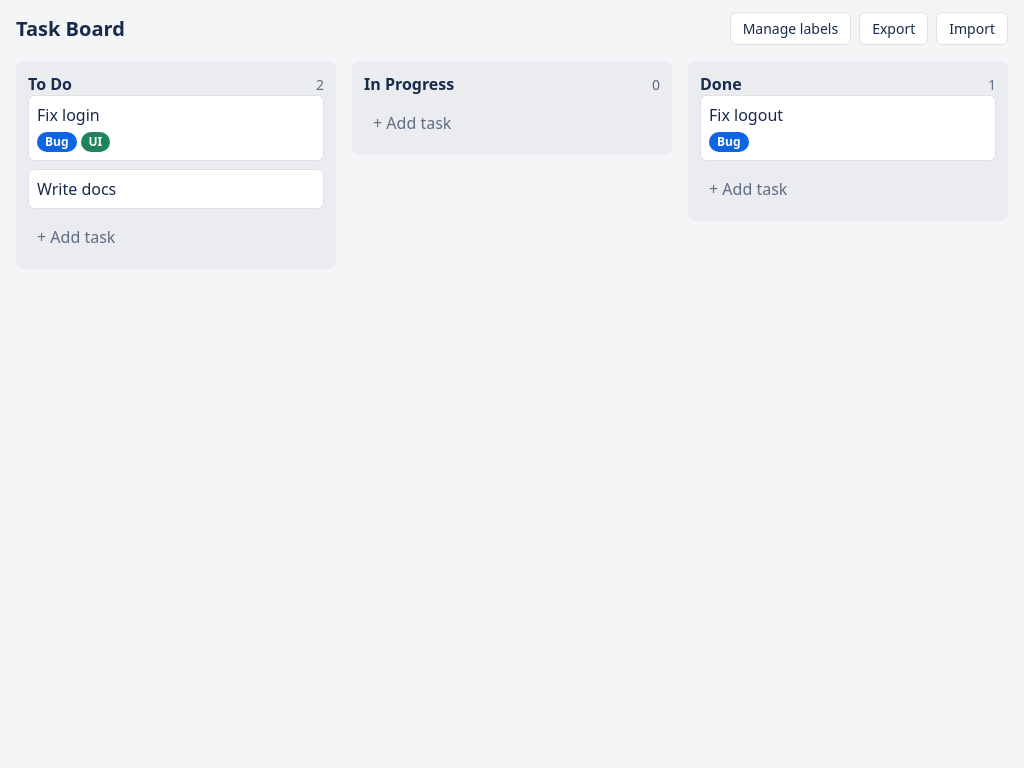
Manage labels screen › rejects a blank name with a message
Click the button "Manage labels".
click(790, 28)  # box [730,12,851,45]
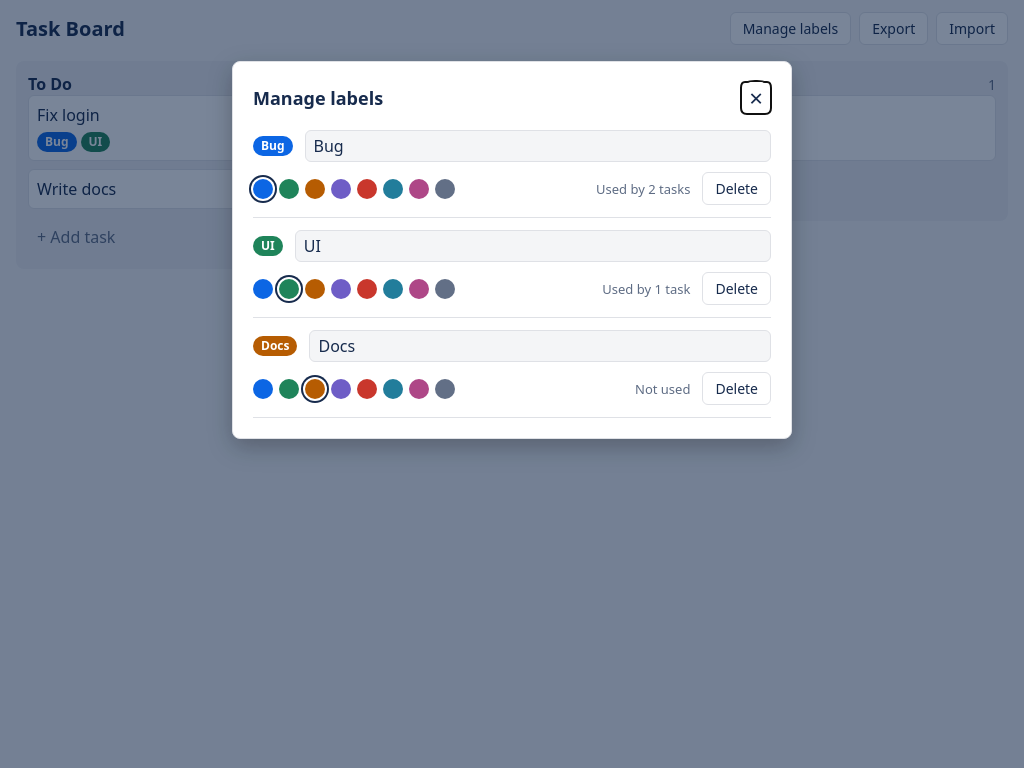
Clear the 3rd field named "Name" at x=540, y=346, box [310,330,771,362]
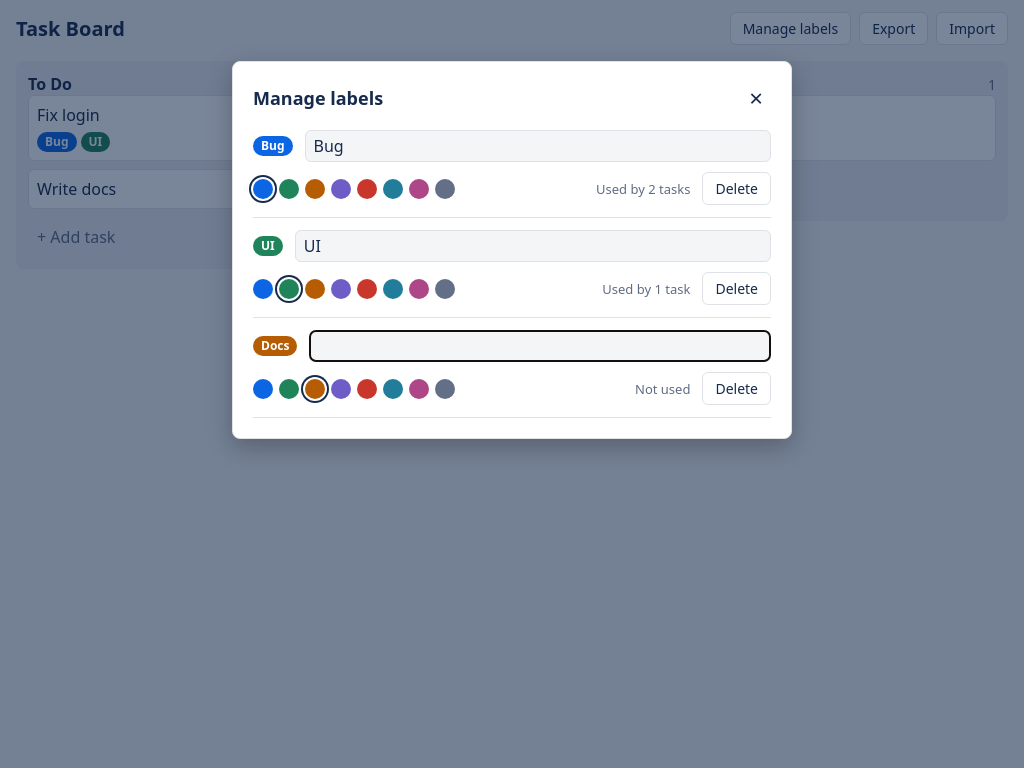
Press Tab
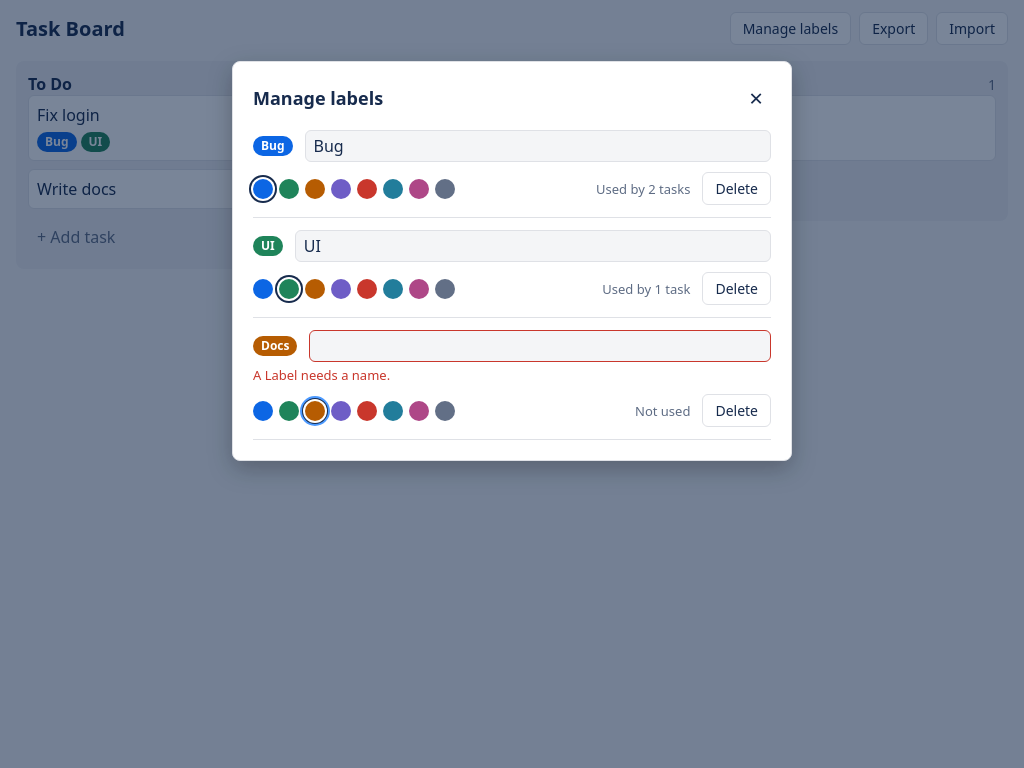
Now the message reads "A Label needs a name.", box [253,366,390,384]
